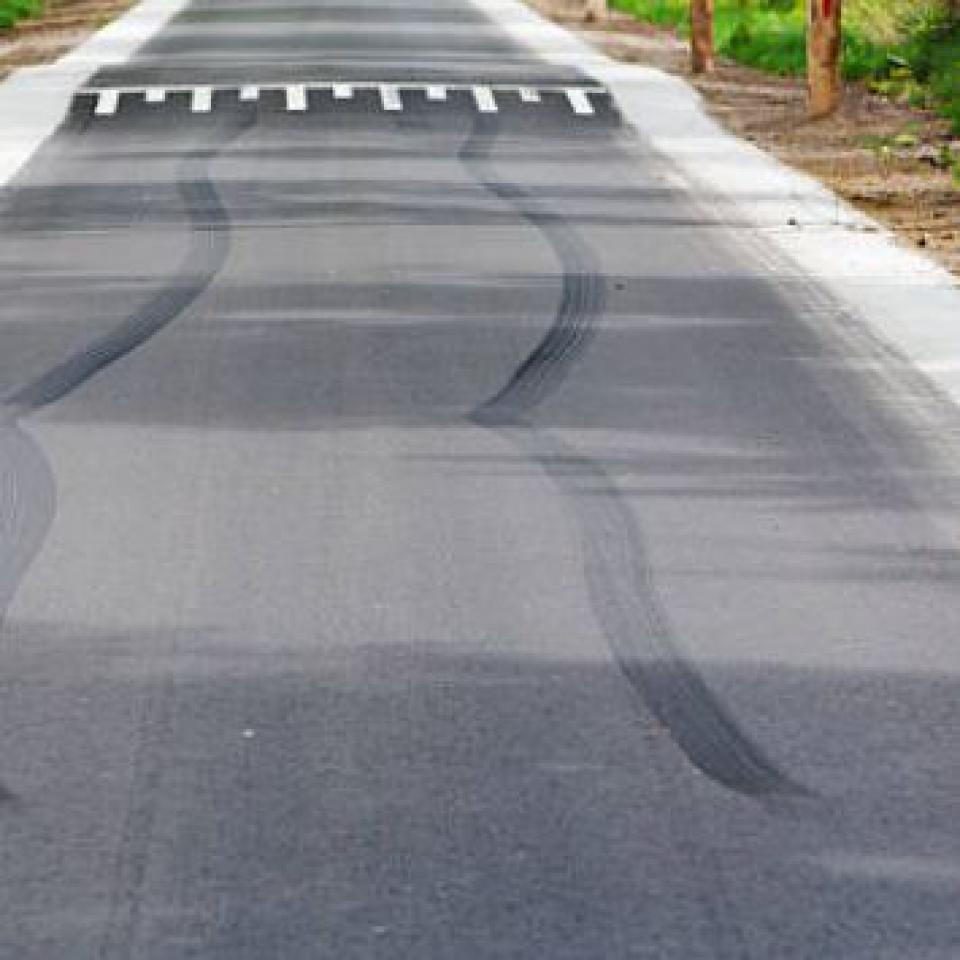speedbreaker: (70, 76, 603, 132)
